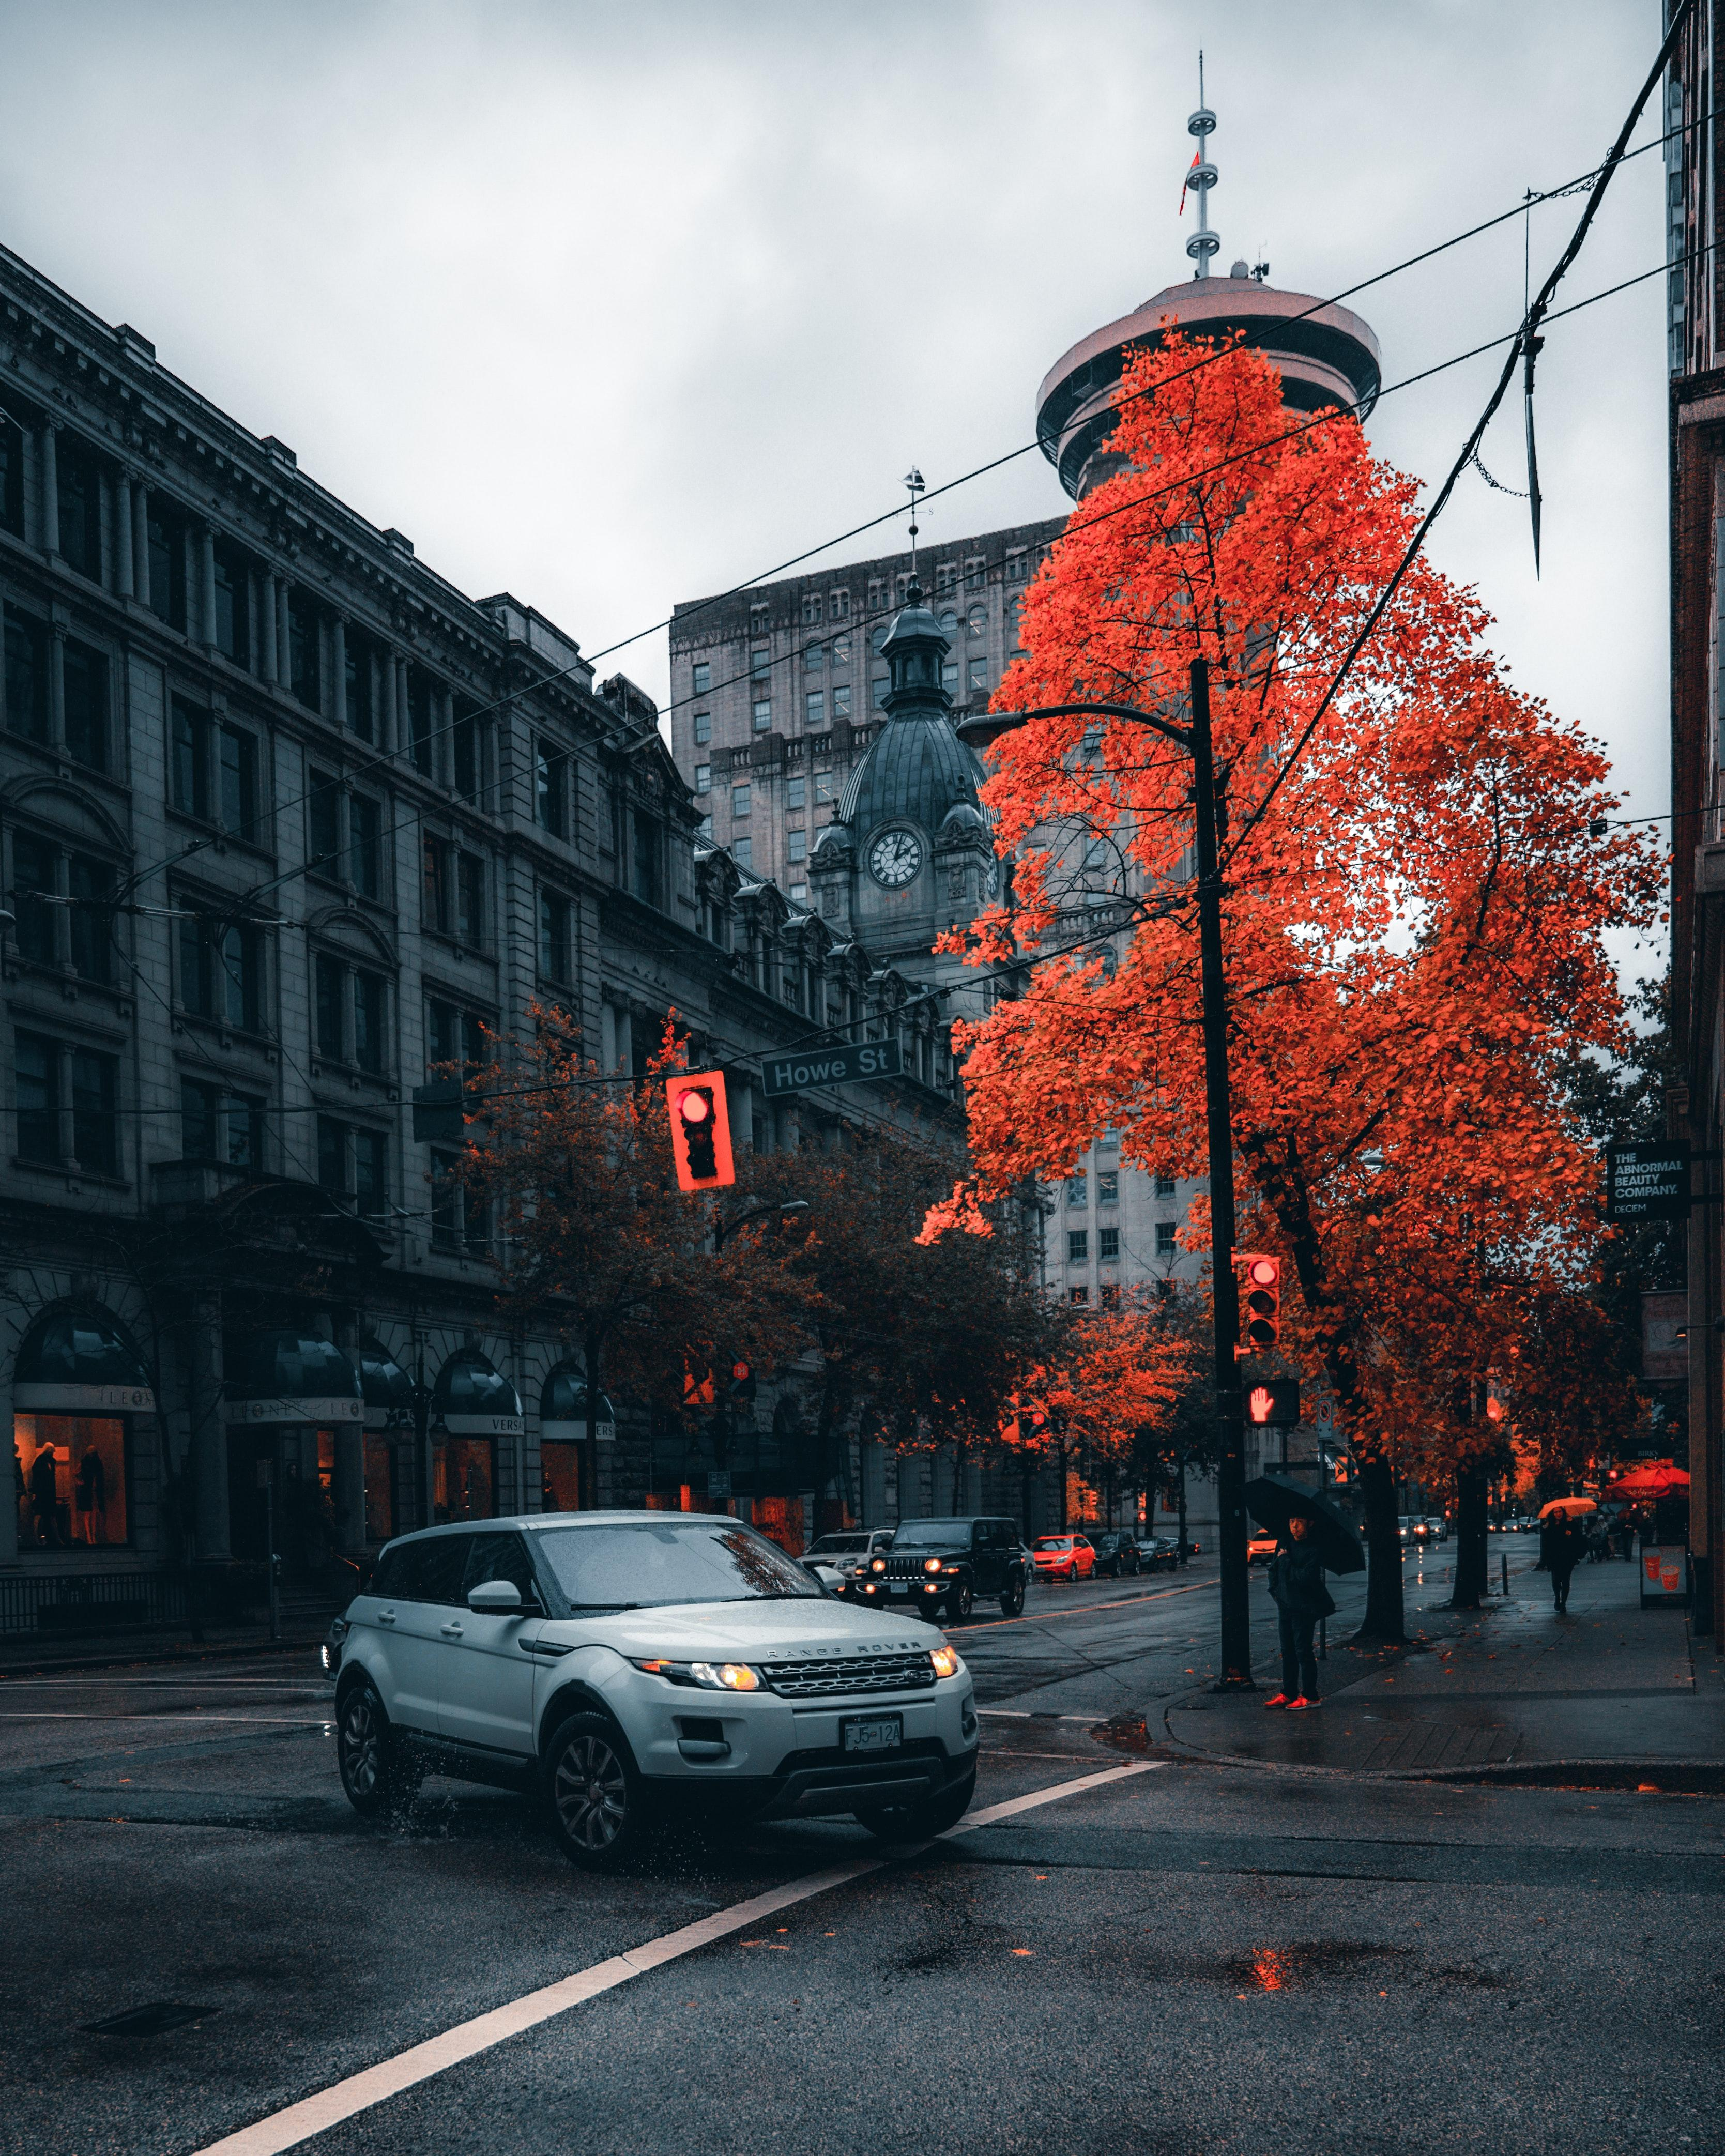range rover: (755, 1621, 945, 1676)
